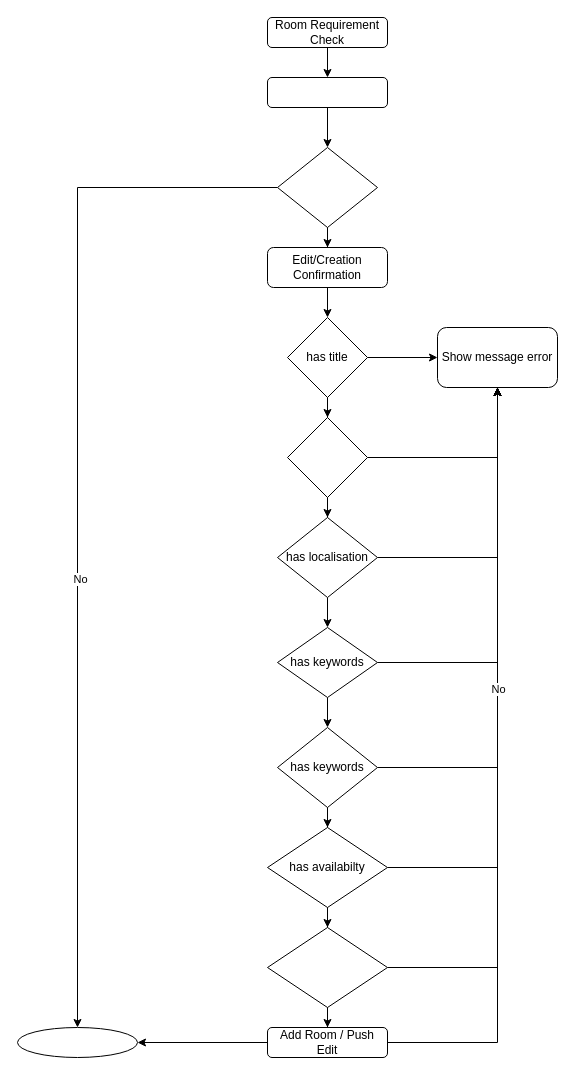
This 575x1075 diagram has some shape labels left out. Here are the shapes that lost their labels. From the top down, the box of each, then its label:
(266, 76, 388, 108): On page Arrival
(276, 146, 378, 228): User = Admin
(286, 416, 368, 498): has image
(266, 926, 388, 1008): has capacity
(16, 1026, 138, 1058): Go to desired page
